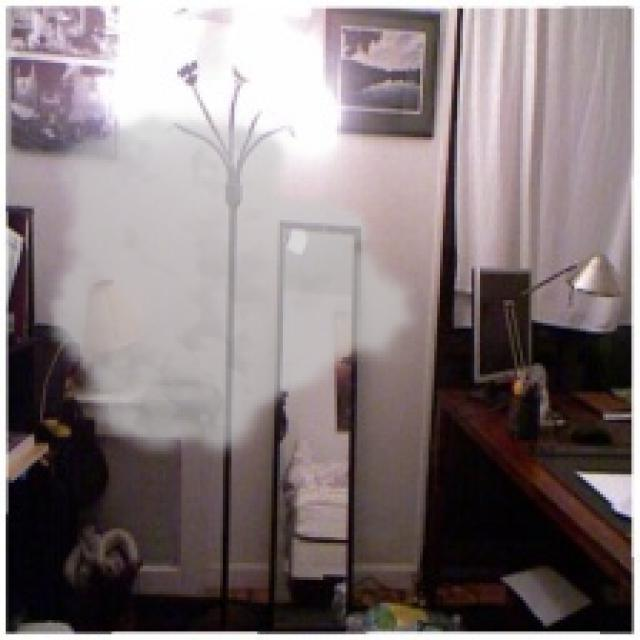smoke: (43, 108, 426, 466)
